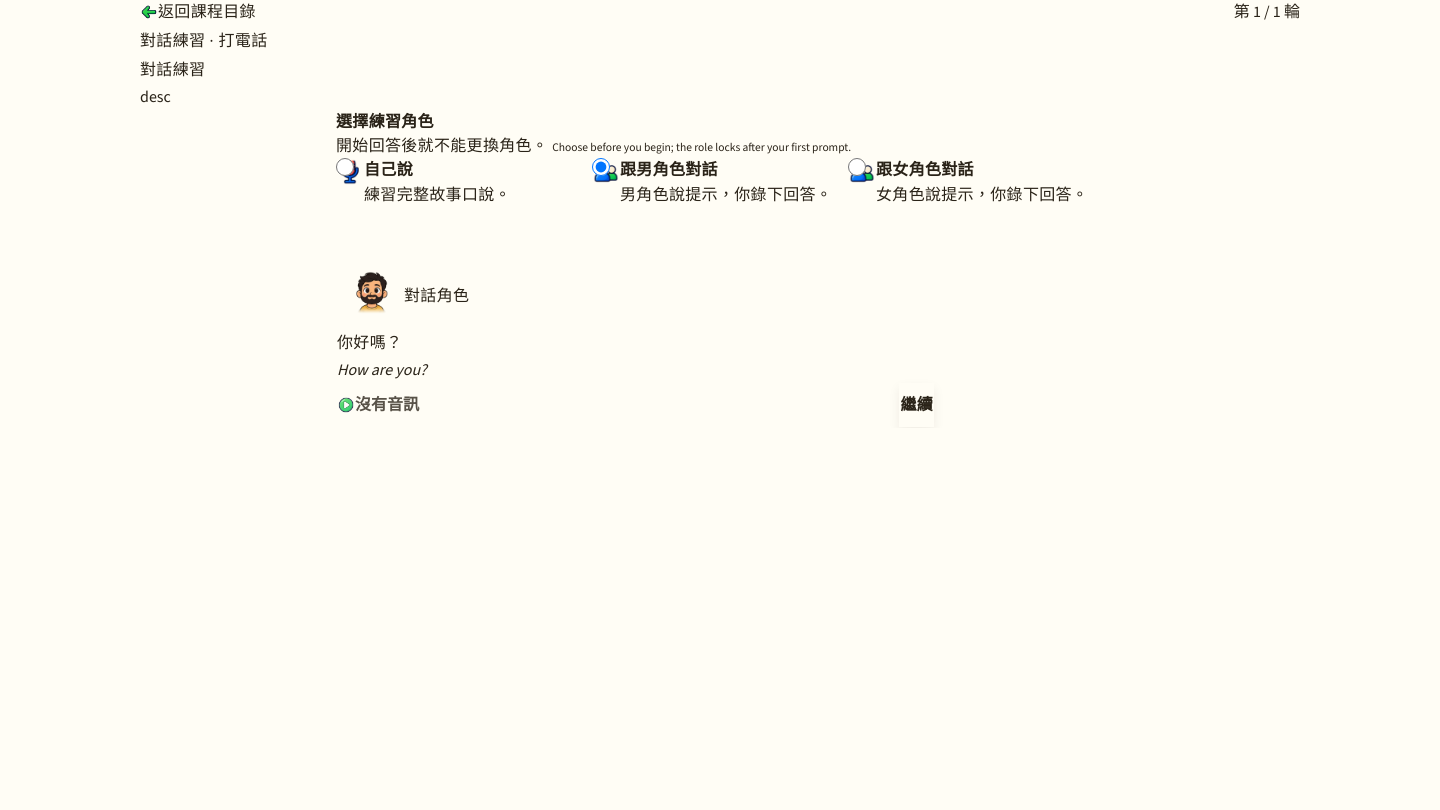
ConversationPage › Record again returns to the student recording step
Click the button "繼續". click: {"x": 917, "y": 405}
box: [899,383,934,427]
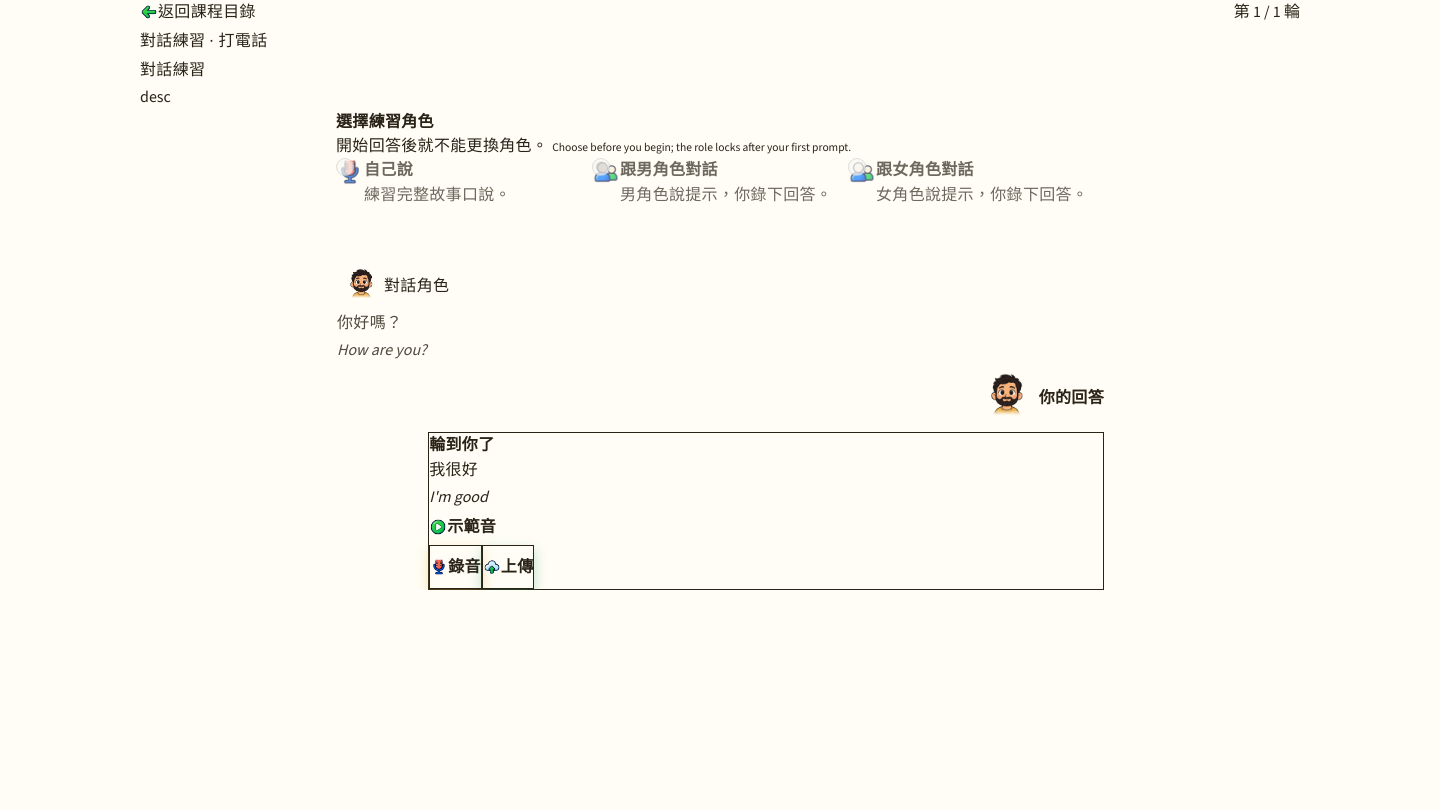
Click the button "錄音". click: {"x": 456, "y": 567}
box: [429,545,482,589]
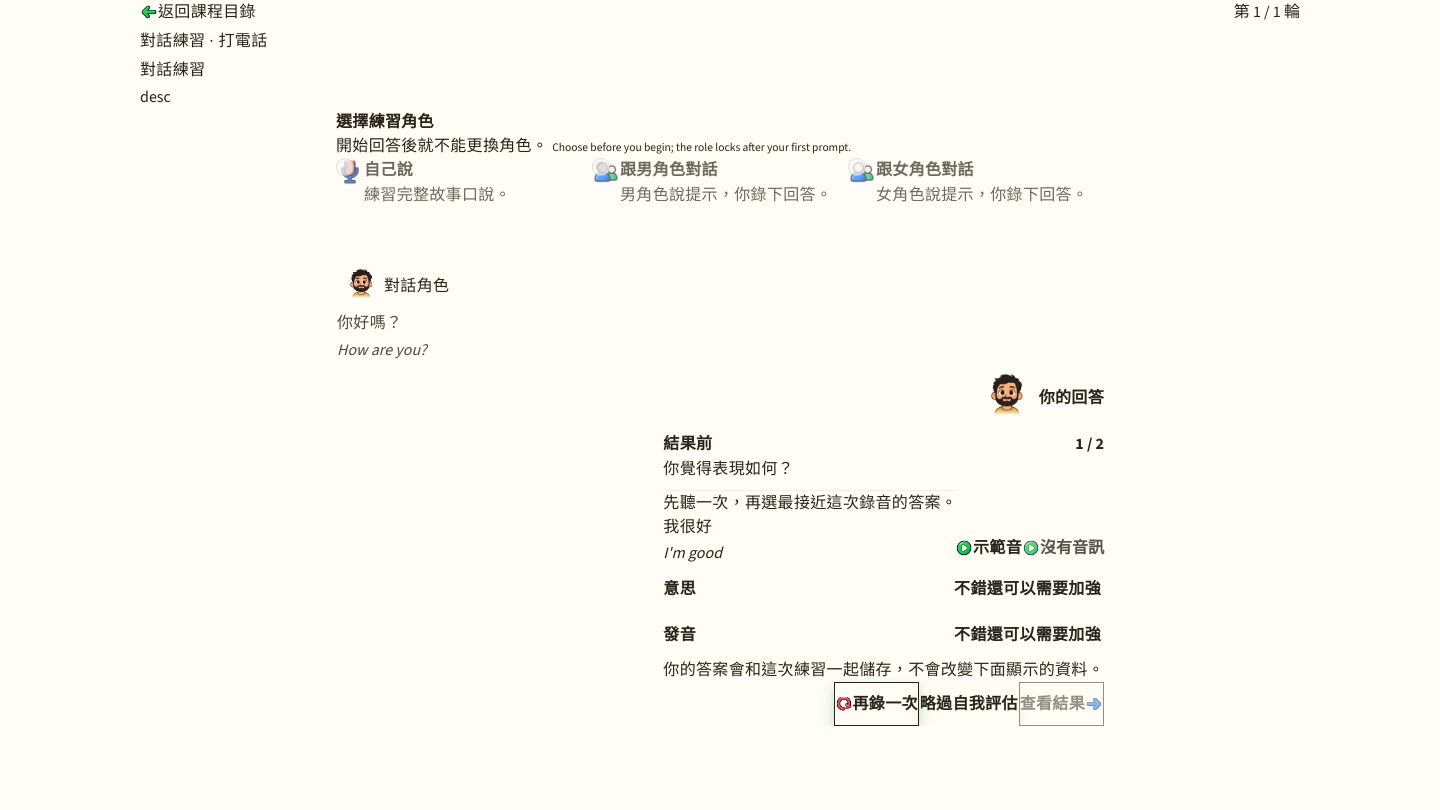
Expected: the text "你覺得表現如何？" is shown, [663,457,794,482]
Click the button "略過自我評估". click: {"x": 969, "y": 704}
box: [919,682,1019,726]
(page scrolled)
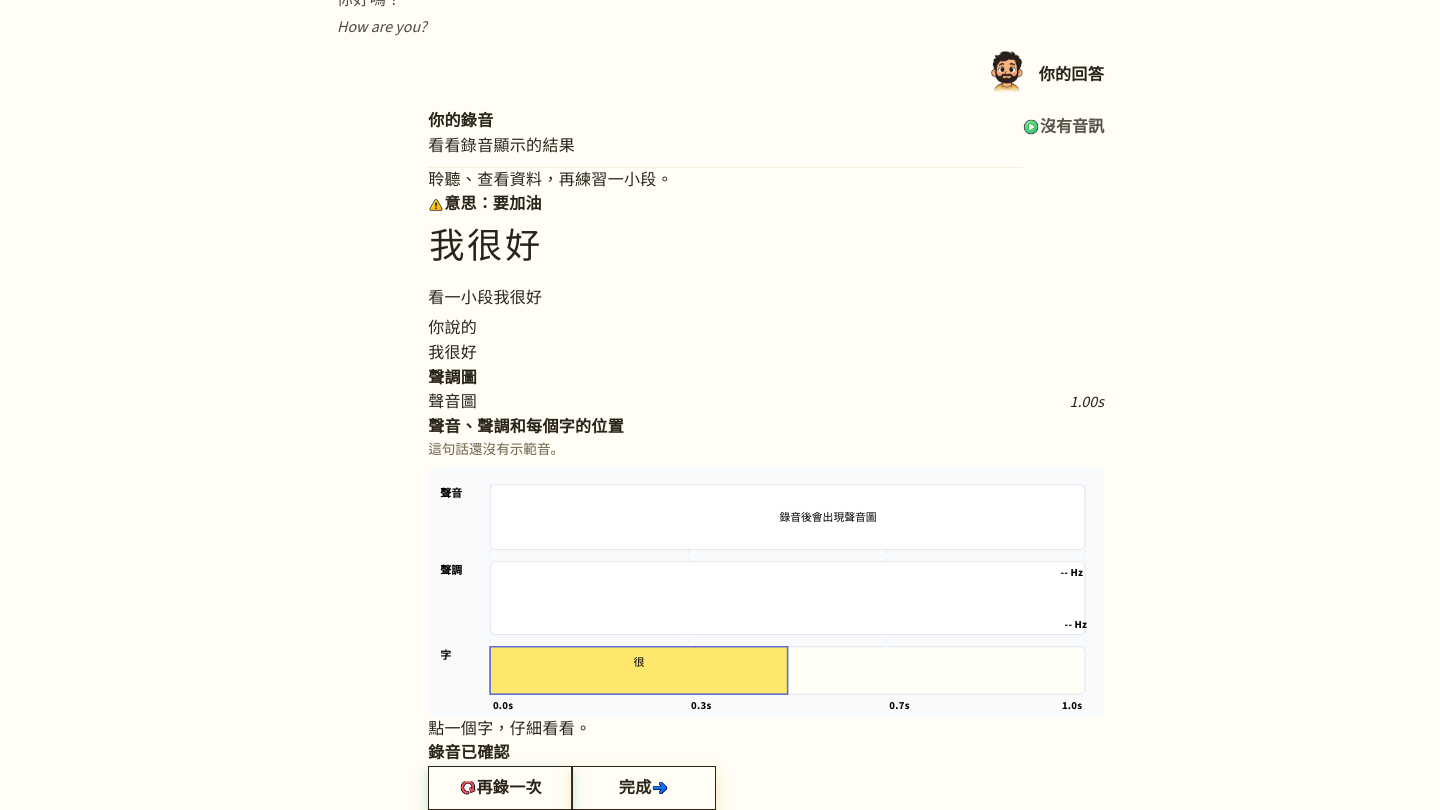
Expected: the text "你的錄音" is shown, [428,109,494,134]
Click the button "再錄一次". click: {"x": 500, "y": 788}
box: [428,766,572,809]
(page scrolled)
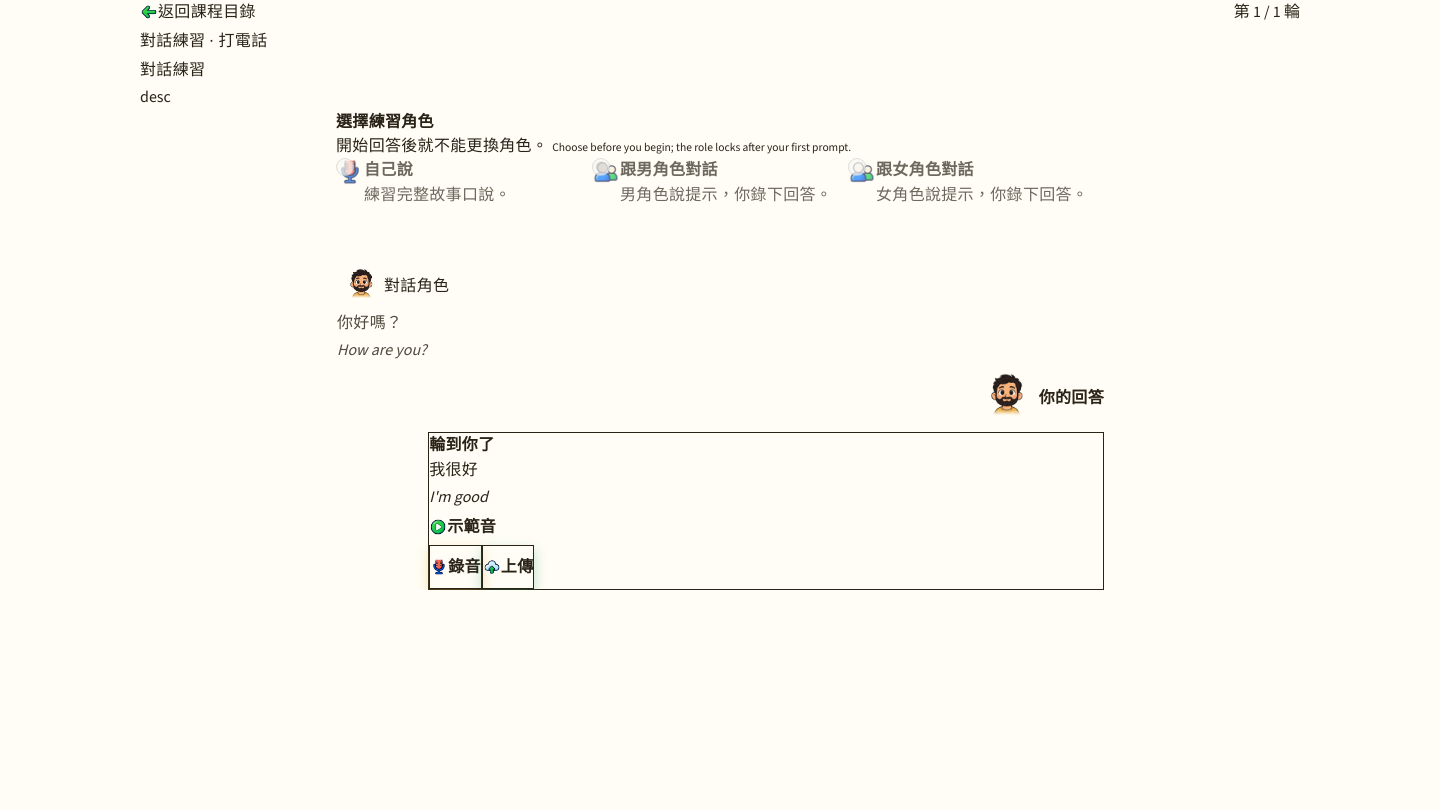
Expected: the button "需要加強" is not shown
Expected: the button "錄音" is shown, [429,545,482,589]
